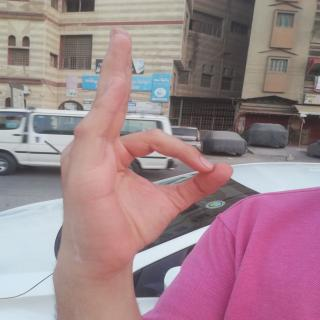Space: (50, 24, 239, 263)
